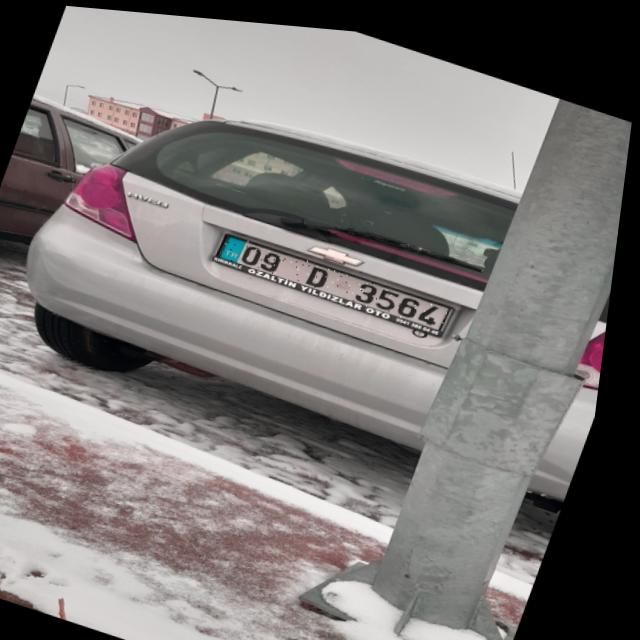license_plate: (216, 228, 462, 322)
